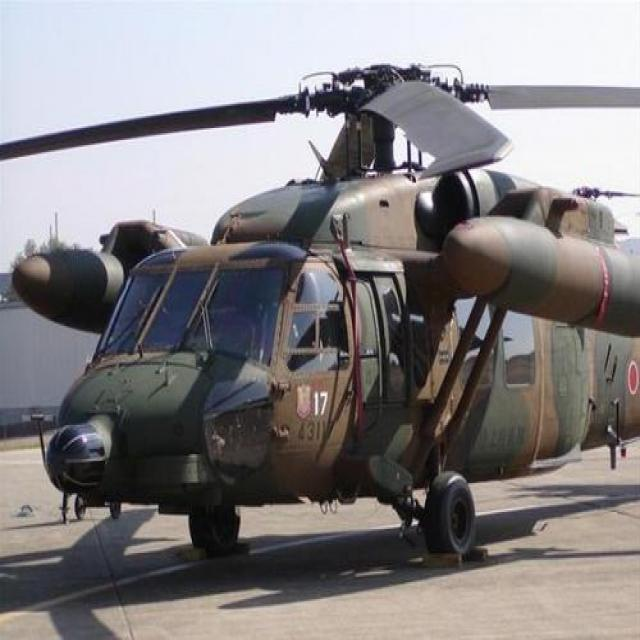MIL_HELO: (0, 43, 640, 567)
